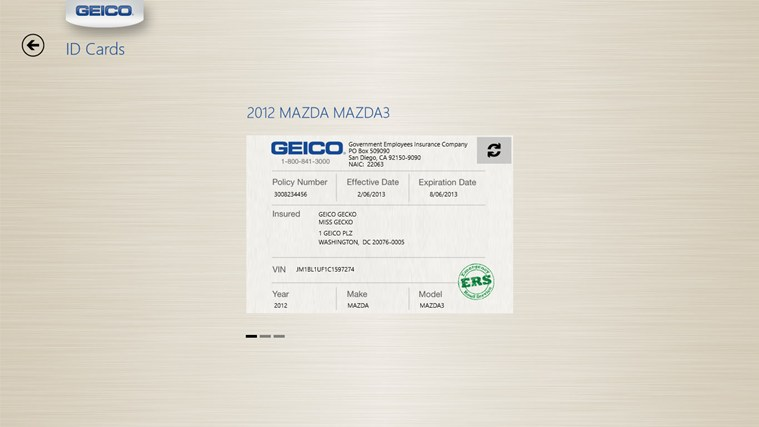geico: (267, 139, 347, 158)
